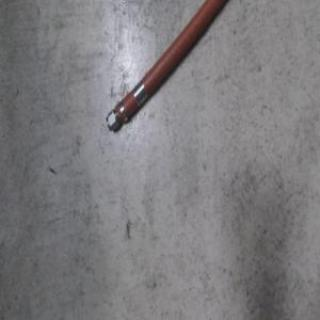Hosetrack_idkeyframe: (102, 0, 228, 132)
